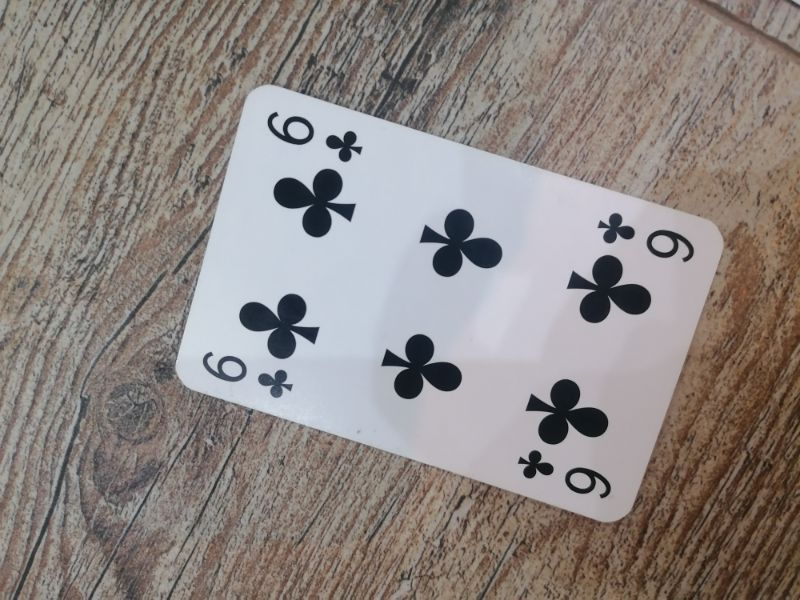6c: (263, 106, 367, 168), (597, 211, 698, 266), (516, 447, 614, 501), (201, 347, 296, 401)
